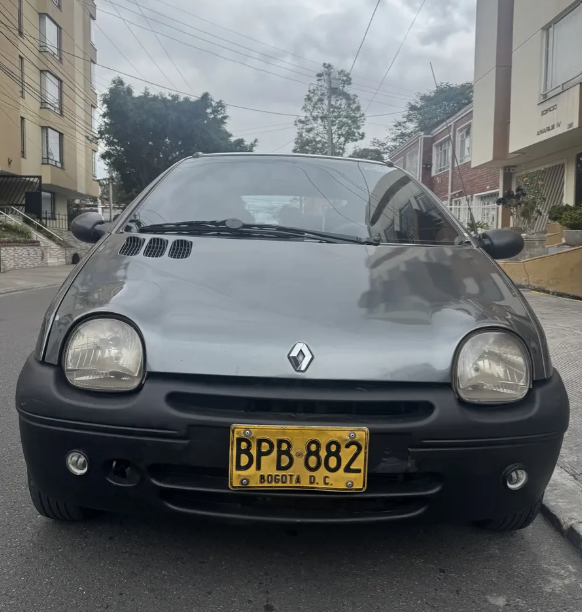placa: (230, 424, 366, 492)
